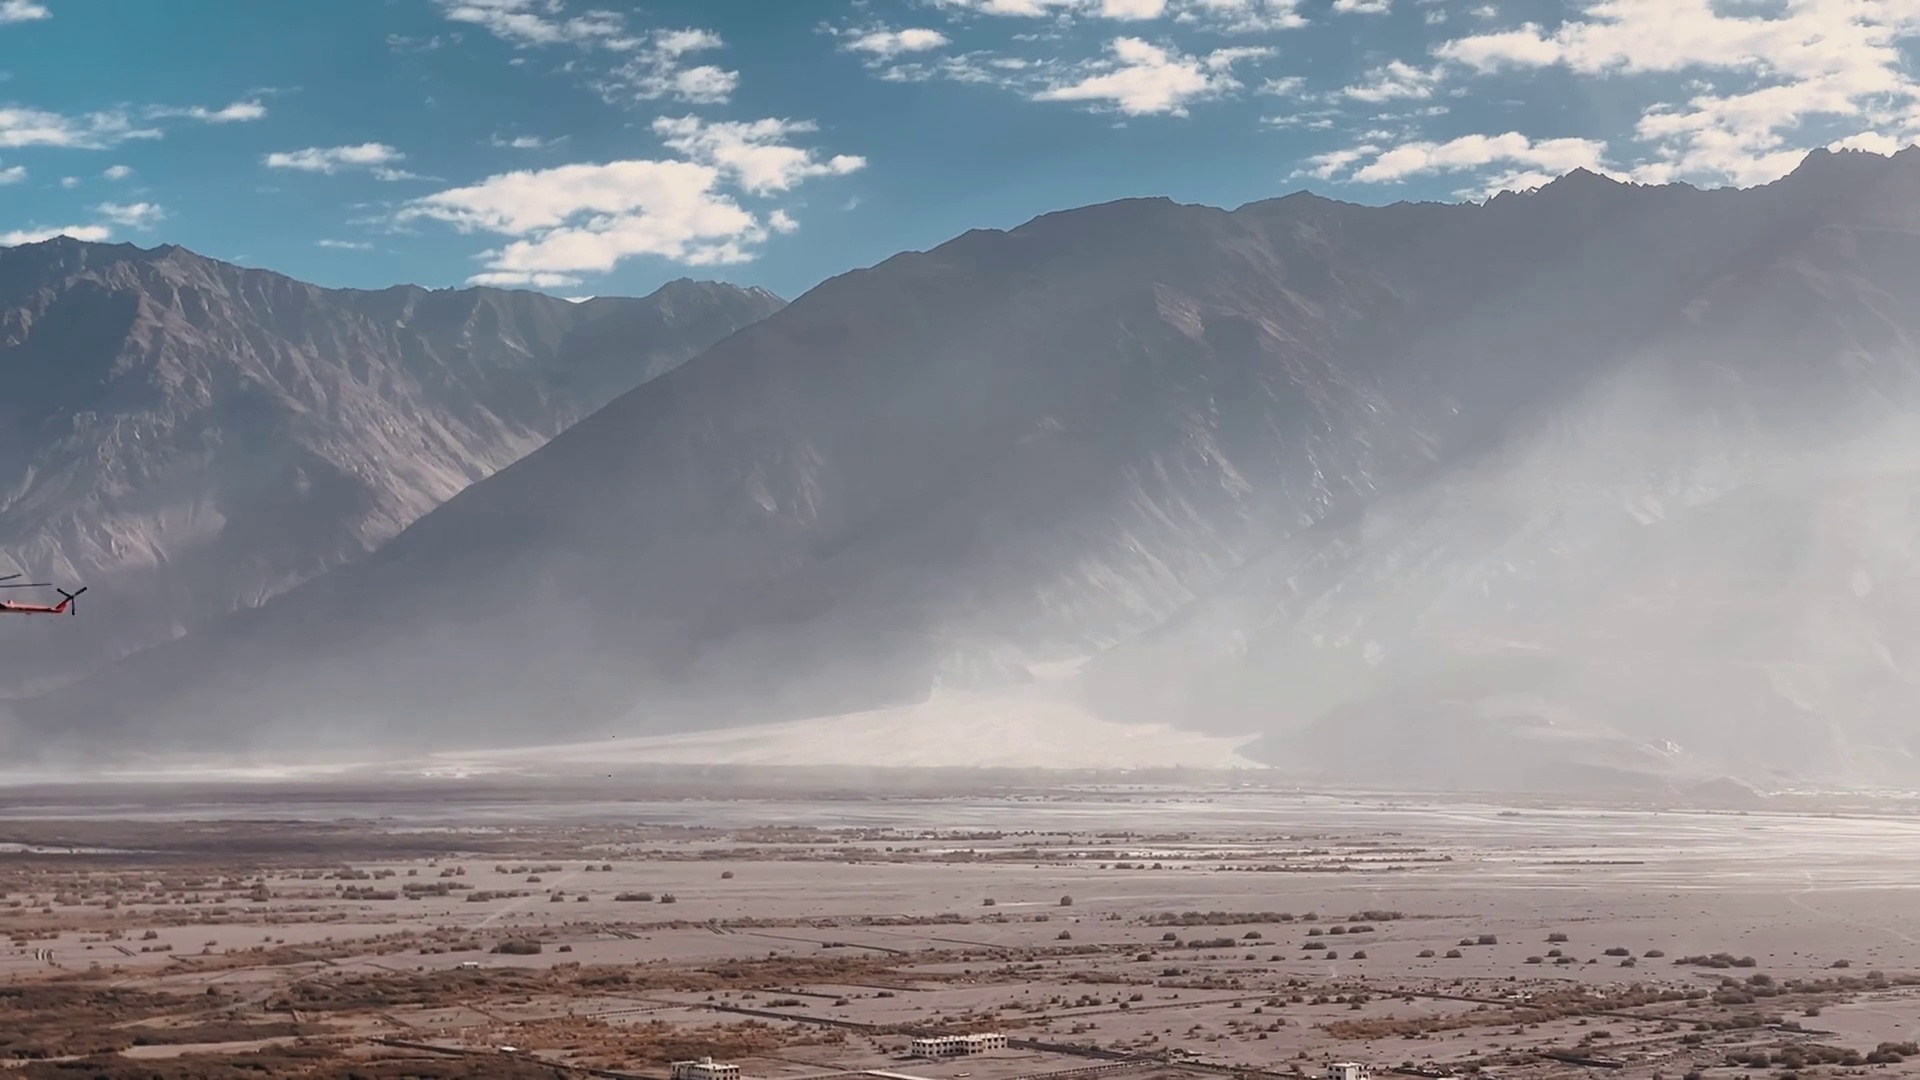heli: (1, 570, 88, 626)
